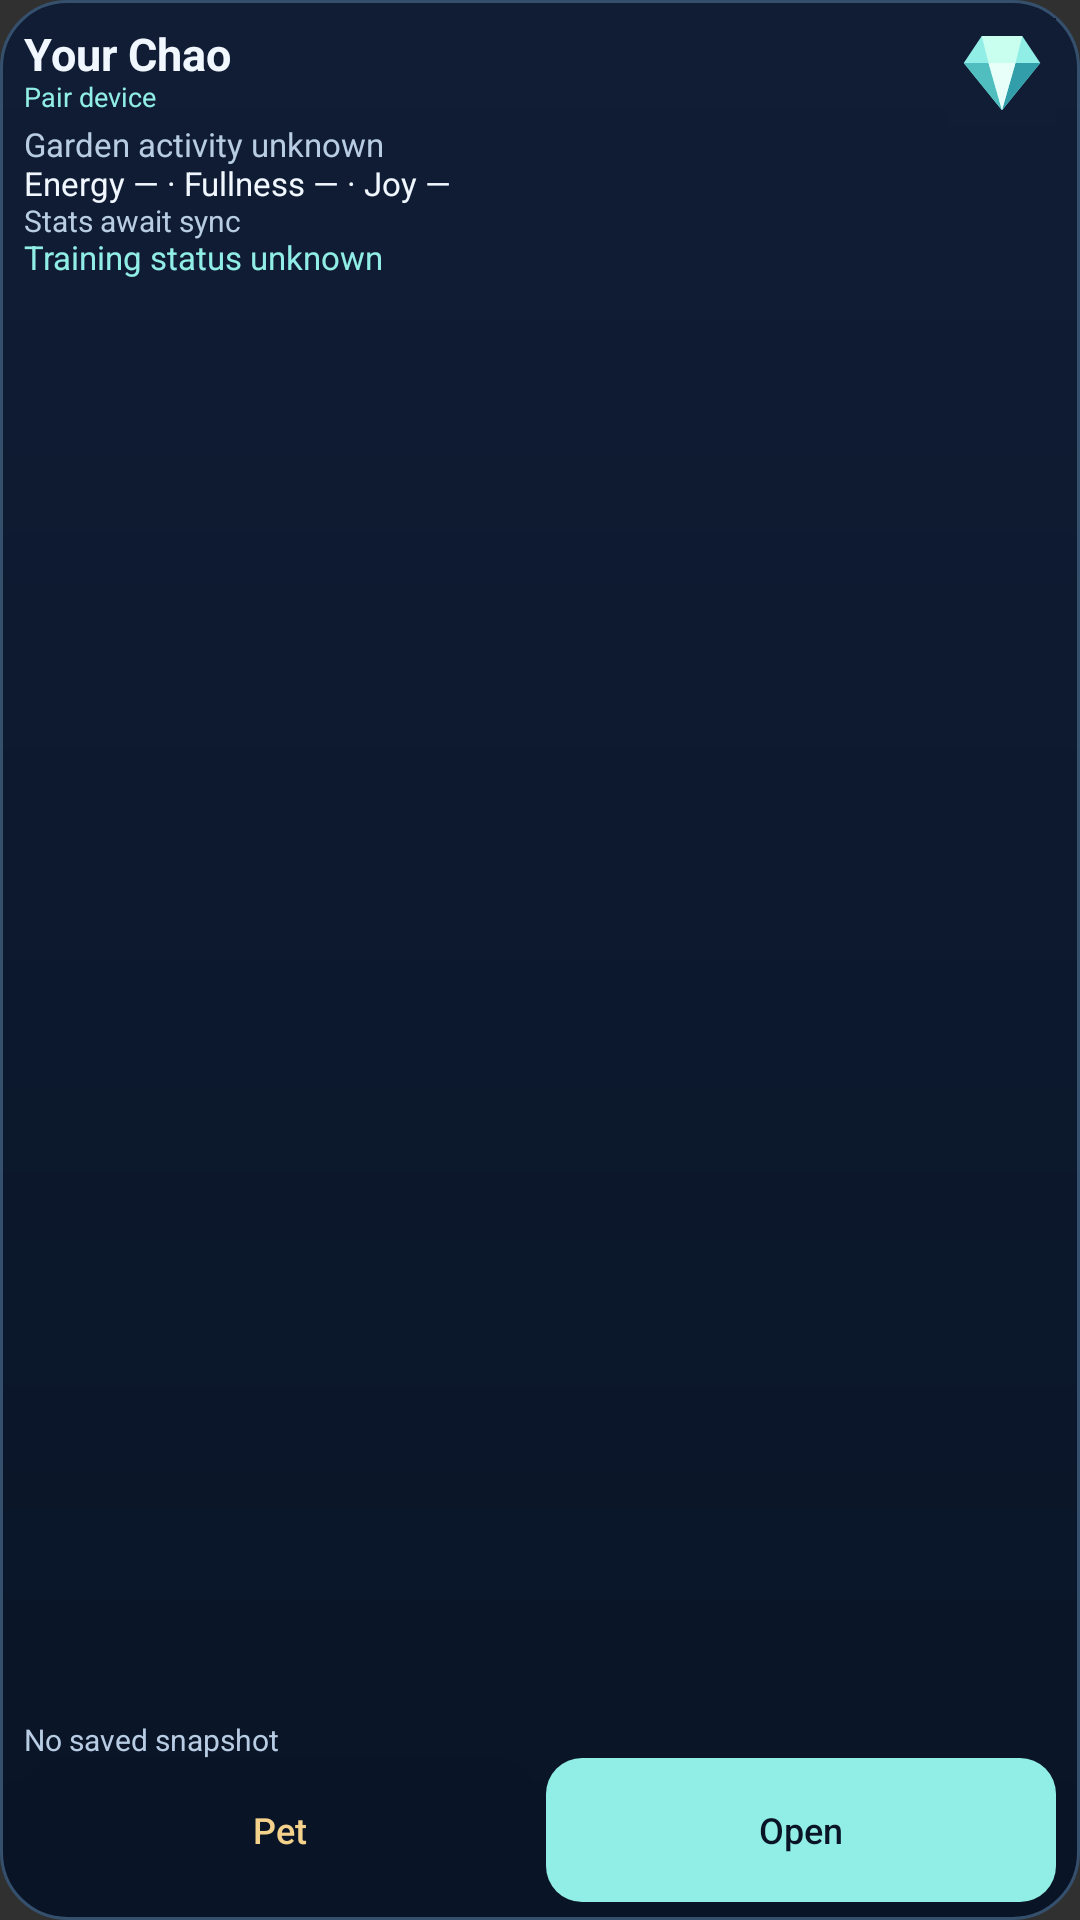

Icon click points for this 1080*1920 phone screenshot, format (x=x, y=y):
garden gem: (x=1002, y=73)
